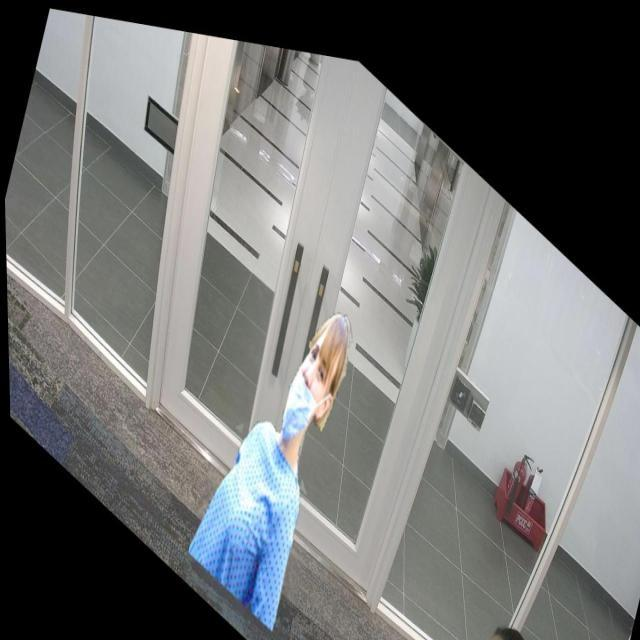hairnet: (274, 314, 336, 456)
